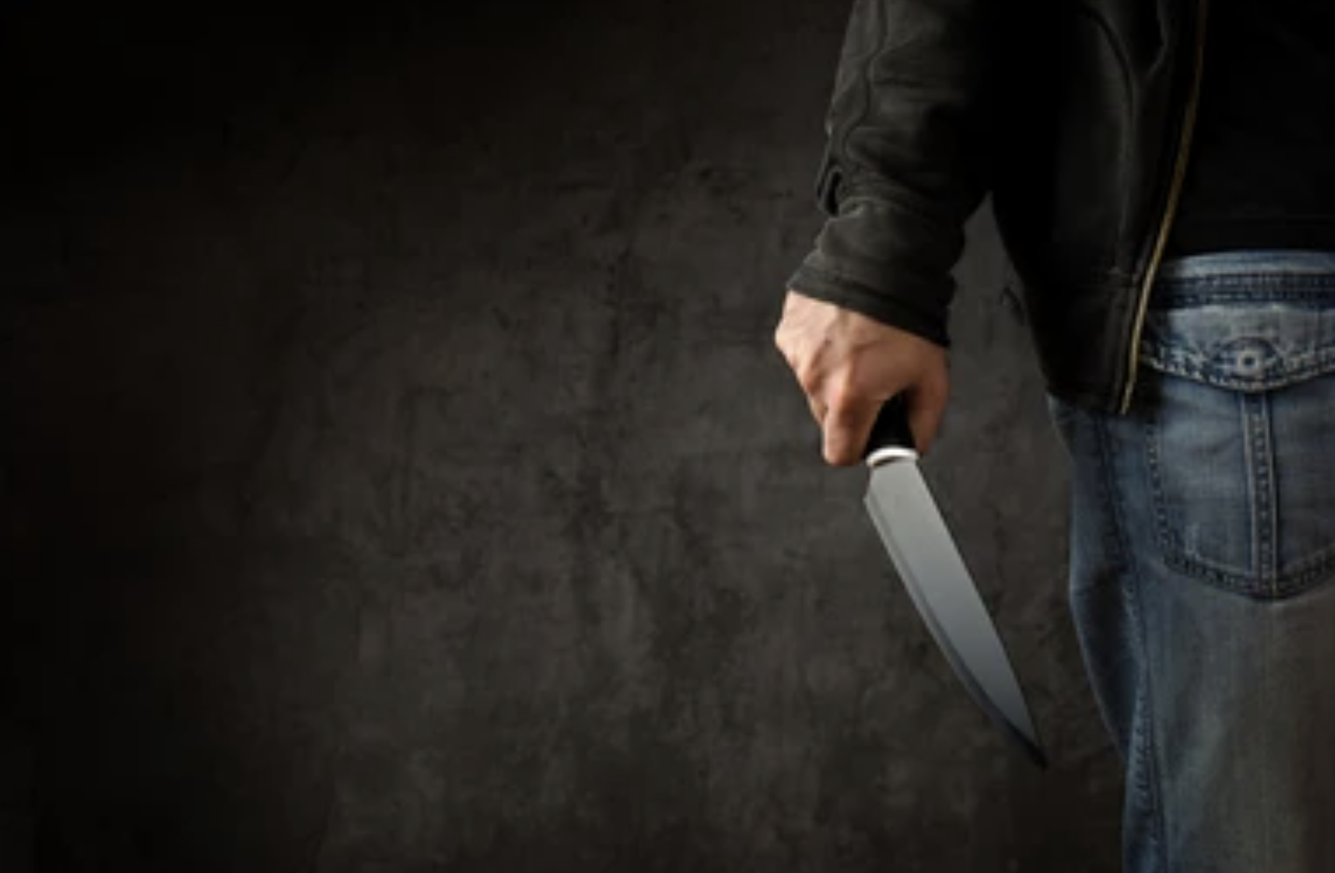knife_53.png: (825, 376, 1068, 788)
